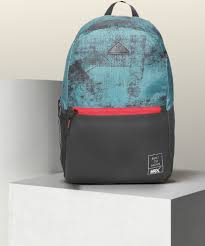backpack: (57, 0, 175, 184)
